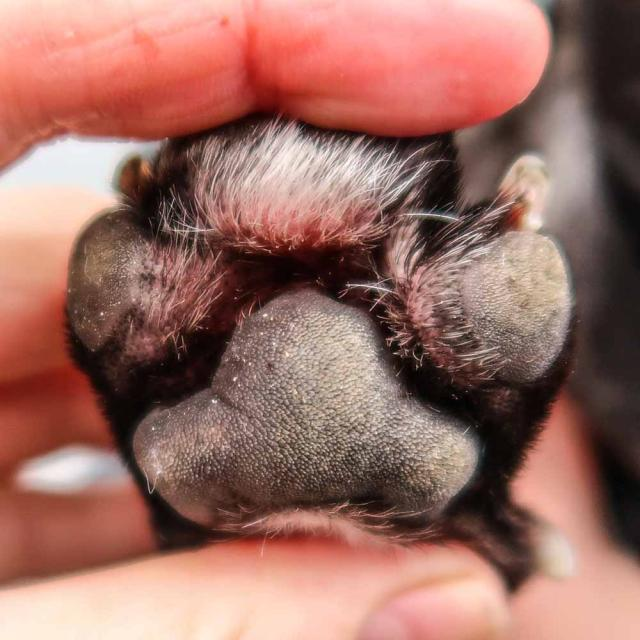fungal infection: (214, 181, 381, 269), (396, 234, 488, 387), (136, 237, 223, 358)
